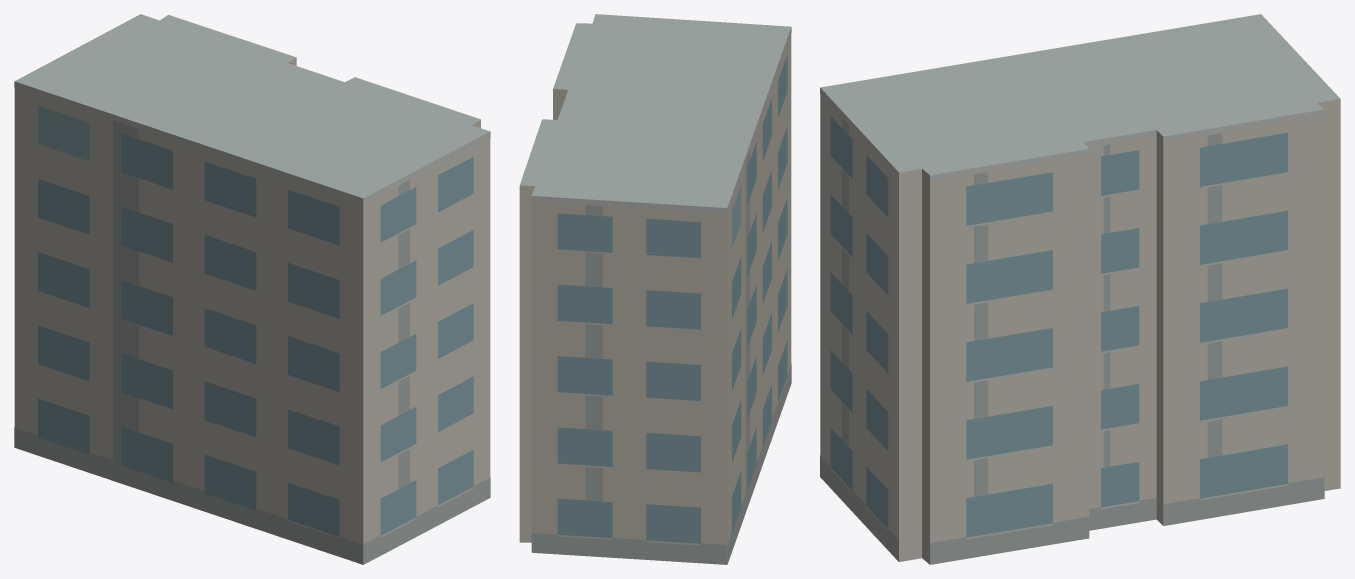
File: survey-upis-33005519.glb
3 renders of one model, left to right at view 1: azimuth 30°, elevation 25°; view 2: azimuth 150°, elevation 25°; view 3: azimuth 270°, elevation 25°, orthographic. The views are drawn at different scales.
Visible parts, largest first — view 1: survey-upis-33005519.tmp; view 2: survey-upis-33005519.tmp; view 3: survey-upis-33005519.tmp.
Part boxes in pixels (bbox=[...]): survey-upis-33005519.tmp: bbox=[14, 14, 490, 564]; survey-upis-33005519.tmp: bbox=[519, 14, 791, 564]; survey-upis-33005519.tmp: bbox=[820, 14, 1340, 564].
Size of the model in its own units: 12.84 by 14.45 by 17.51.
